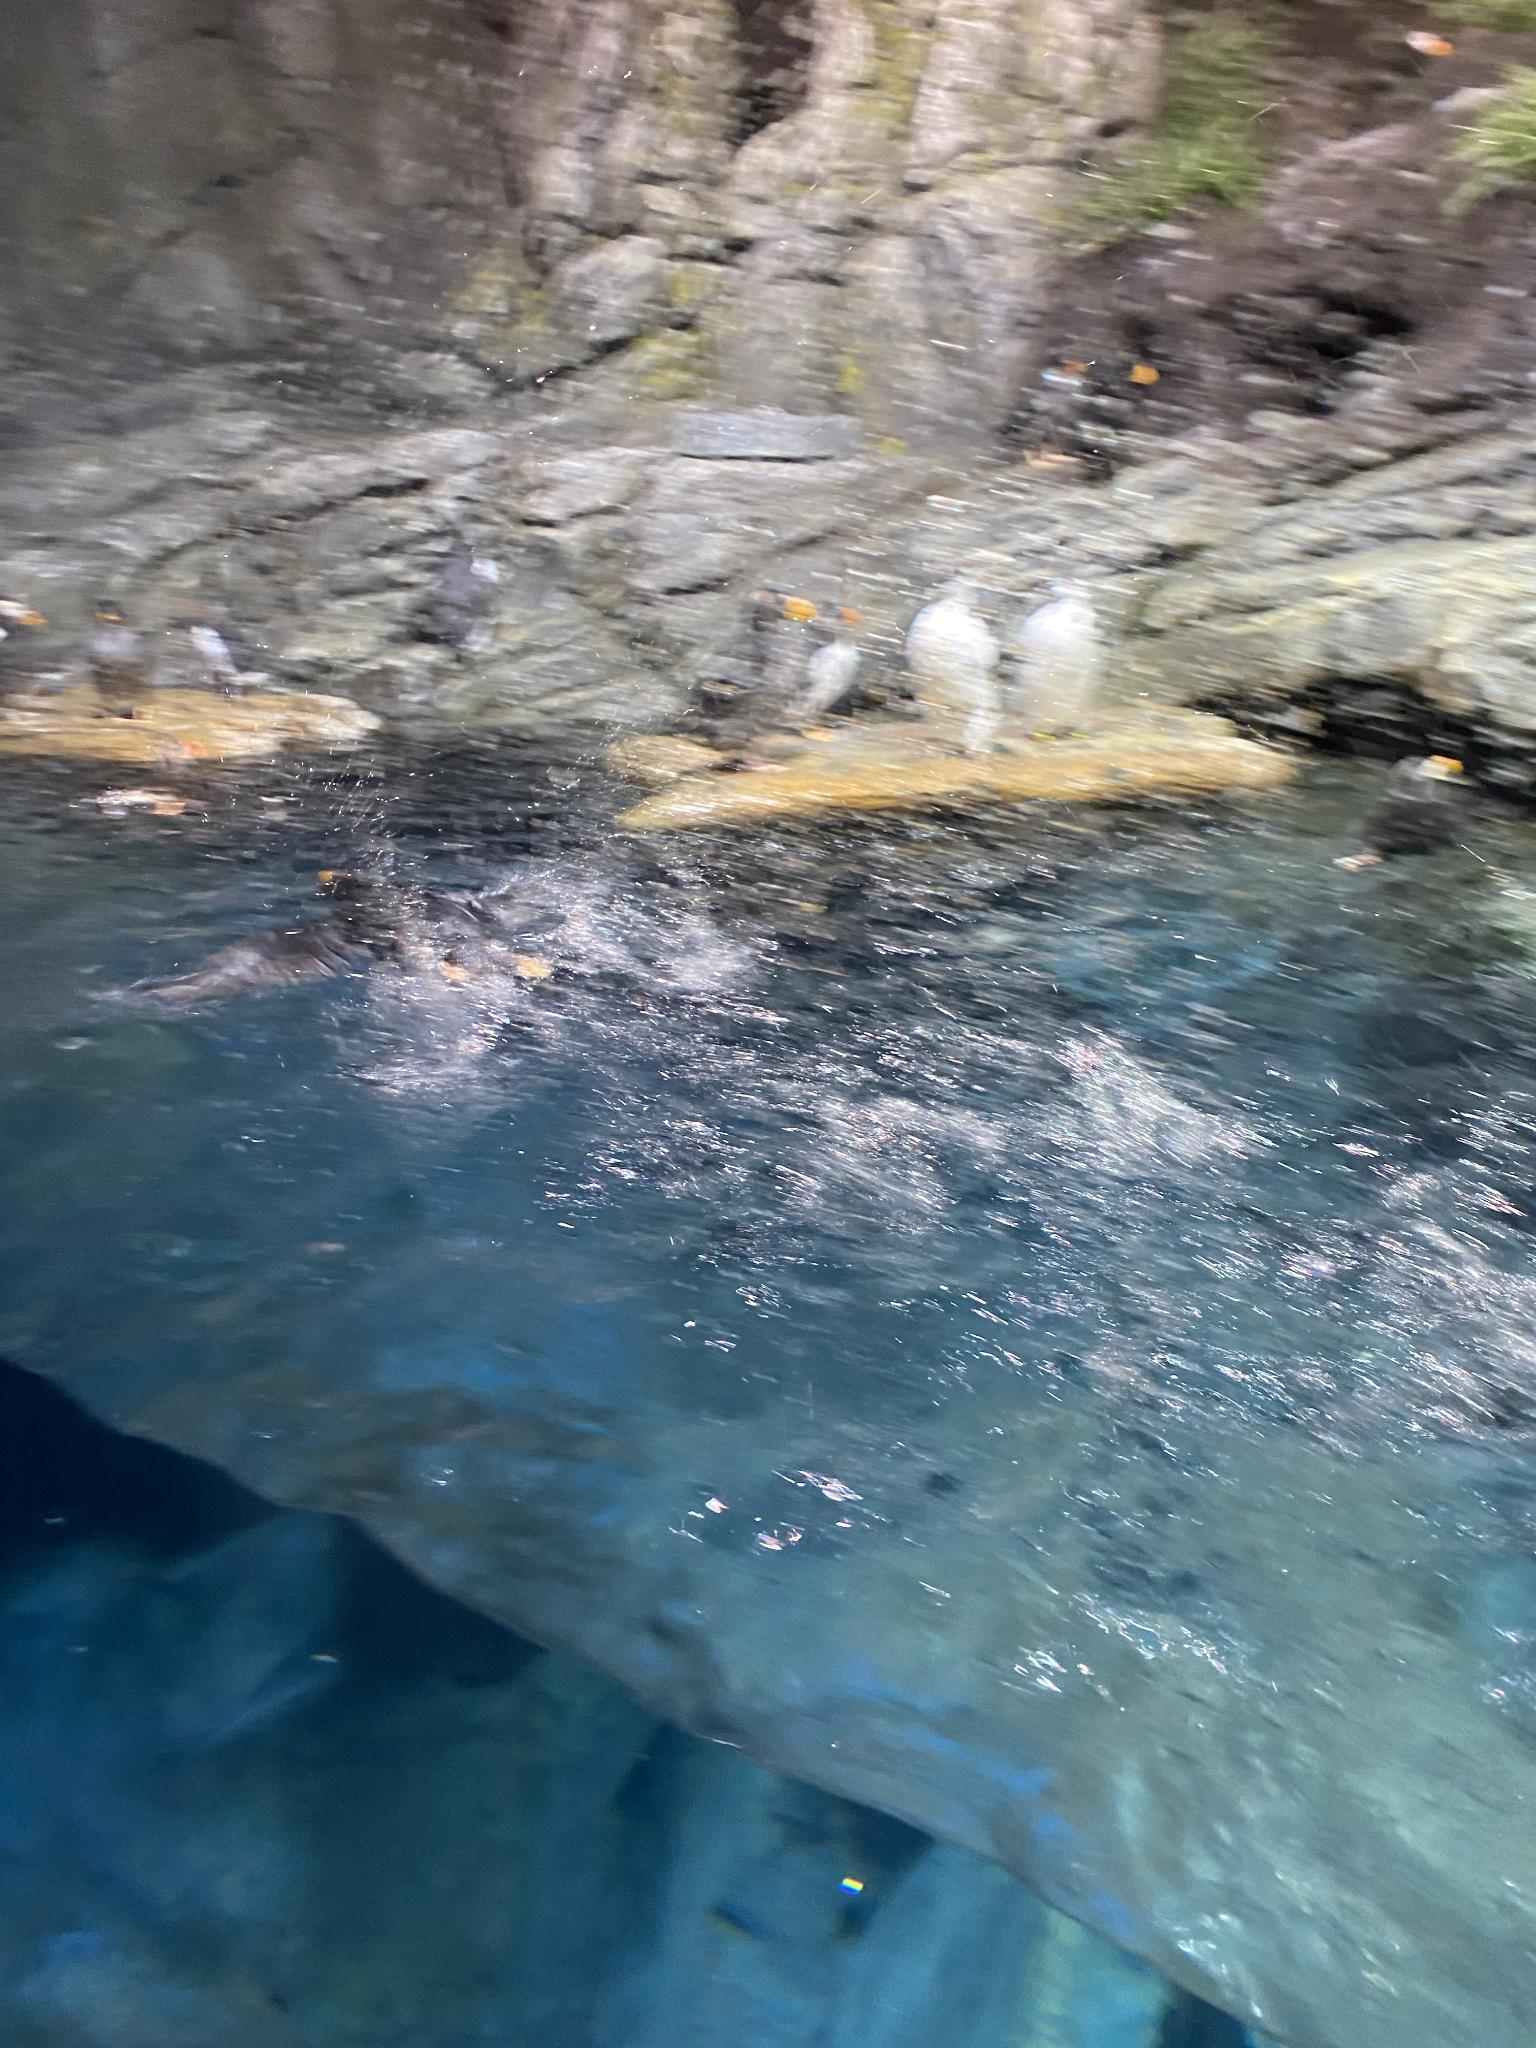puffin: (150, 864, 578, 1018), (665, 585, 813, 764), (1004, 576, 1105, 751), (904, 581, 1002, 756), (399, 526, 516, 664), (1339, 747, 1463, 877), (770, 595, 858, 718), (999, 355, 1083, 476), (1346, 26, 1447, 118), (1079, 360, 1150, 472), (82, 601, 152, 714), (0, 600, 47, 674)
